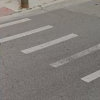crosswalk: (0, 18, 100, 83)
